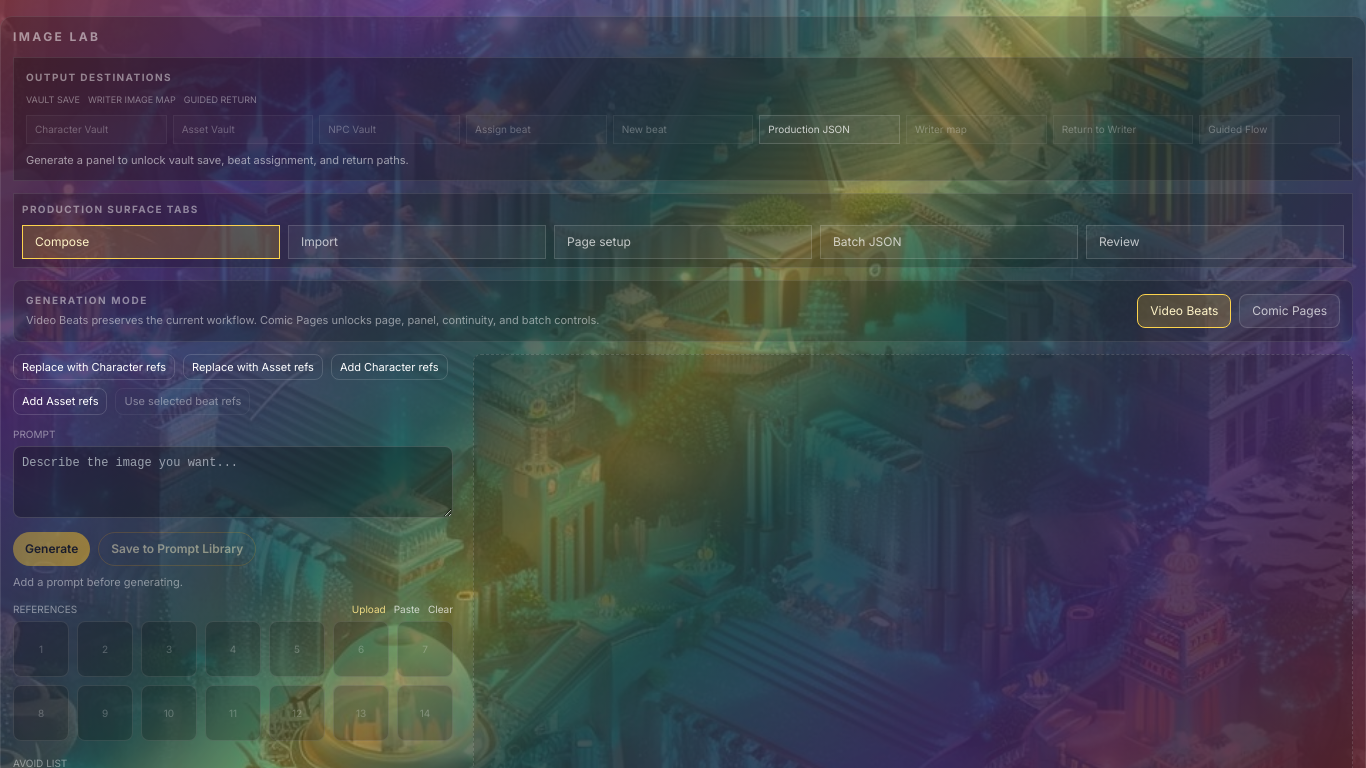
Test case: GenericImageLabPanel production studio shell › renders the Imageshop production studio controls without requiring a generated image
Check: the text "Generation Mode" is shown, box [26,294,148,306]
Check: the button "Video Beats" is shown, box [1137,294,1231,328]
What coordinates should you click on to do the following:
click the button "Import"
I would click on:
 (417, 242)
Its box is [288,225,546,259].
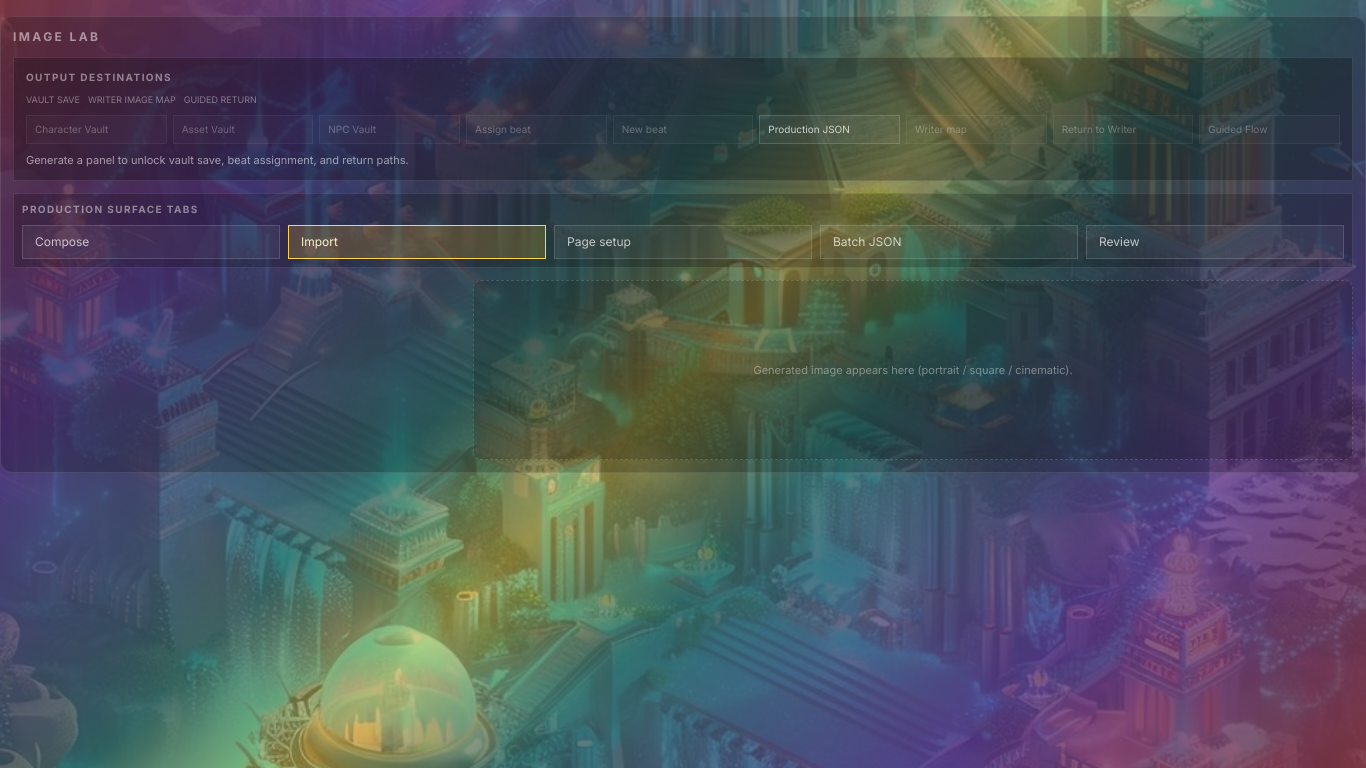
What coordinates should you click on to do the following:
click the button "Page setup"
I would click on:
 (683, 242)
Its box is [554,225,812,259].
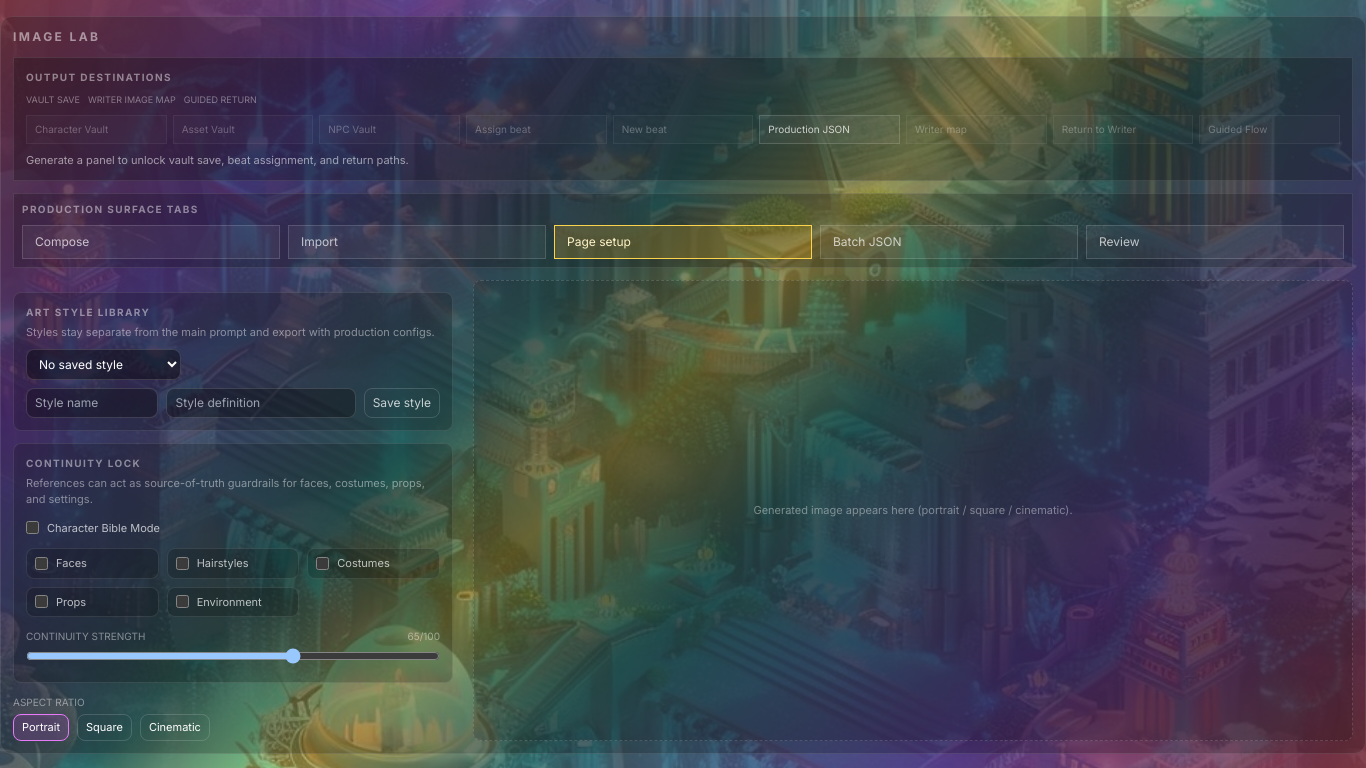
Check: the text "Art Style Library" is shown, box [26,306,150,318]
Check: the text "Continuity Lock" is shown, box [26,456,141,468]
What coordinates should you click on to do the following:
click the button "Batch JSON"
I would click on:
 (949, 242)
Its box is [820,225,1078,259].
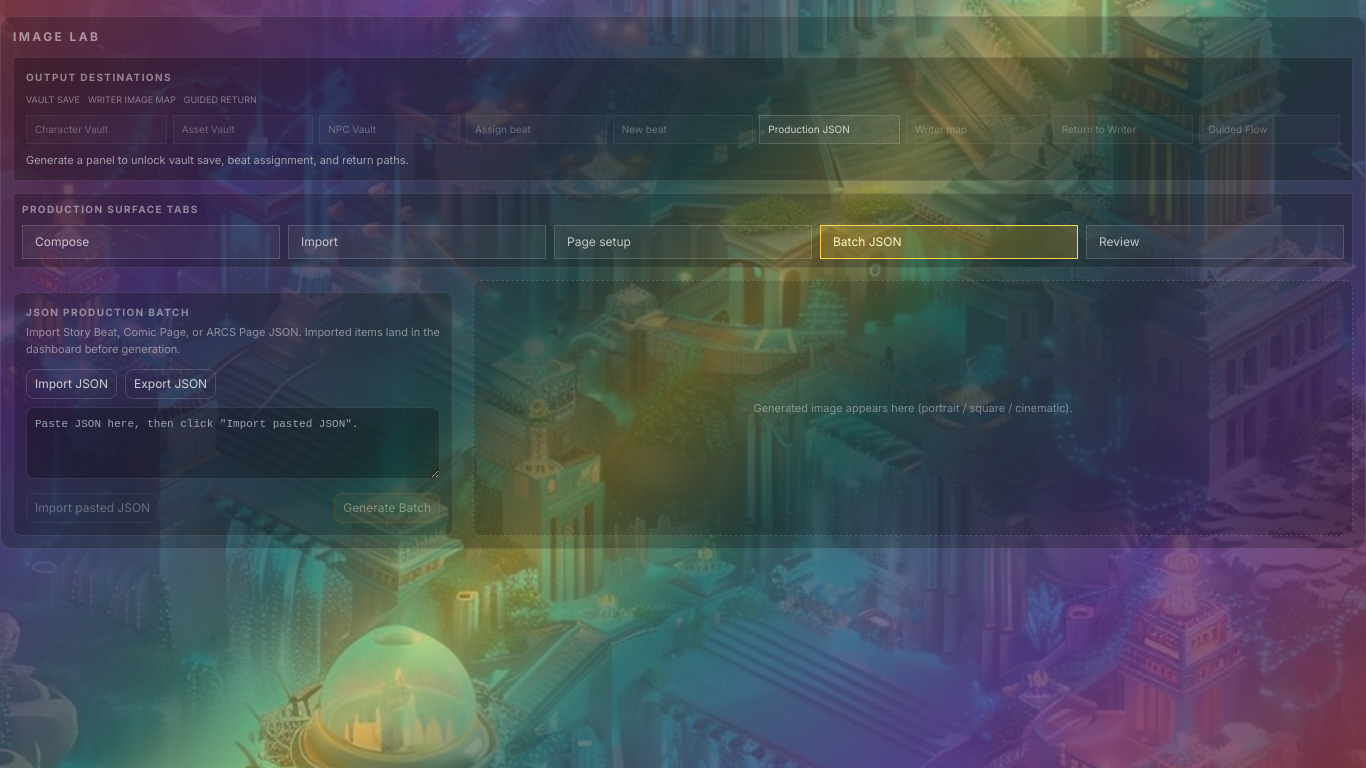
Check: the text "JSON Production Batch" is shown, box [26,306,190,318]
What coordinates should you click on to do the following:
click the button "Review"
I would click on:
 (1215, 242)
Its box is [1086,225,1344,259].
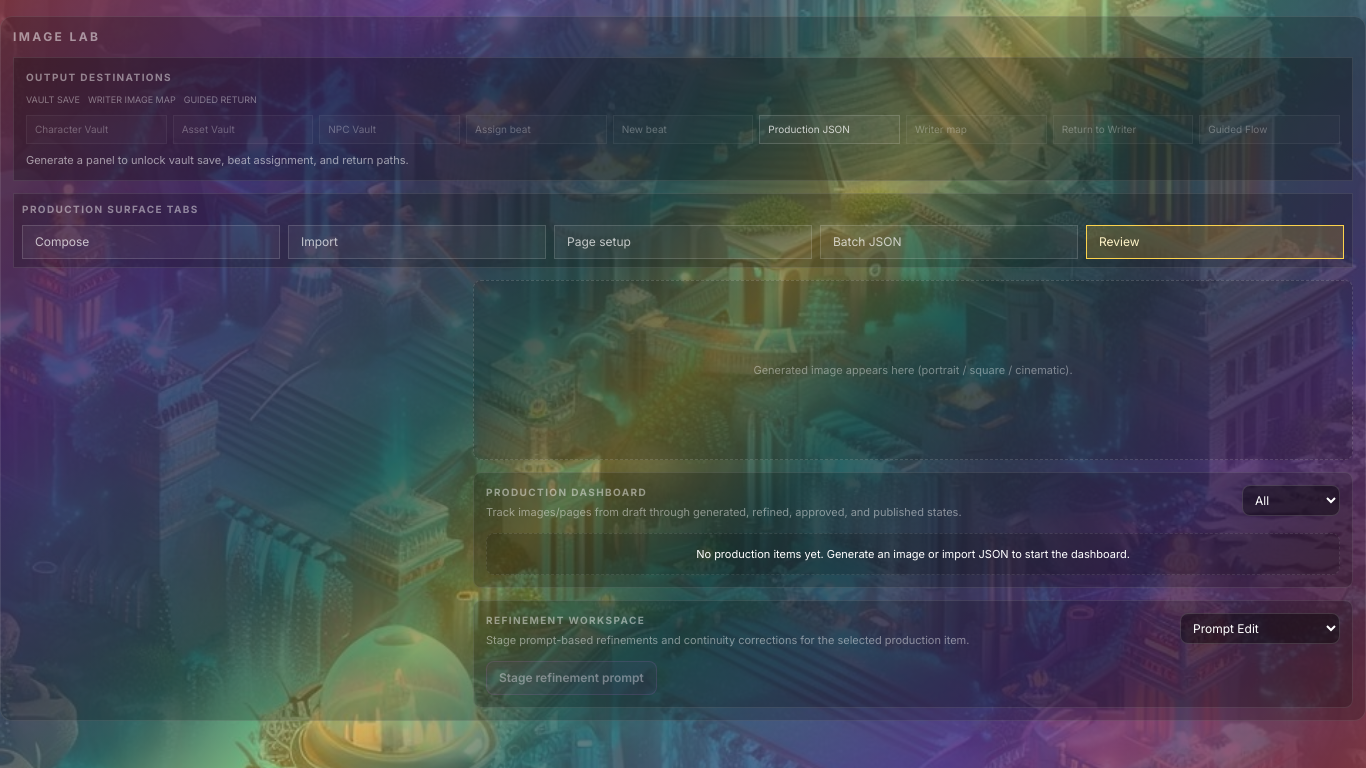
Check: the text "Production Dashboard" is shown, box [486,486,647,498]
Check: the text "Refinement Workspace" is shown, box [486,614,645,626]
